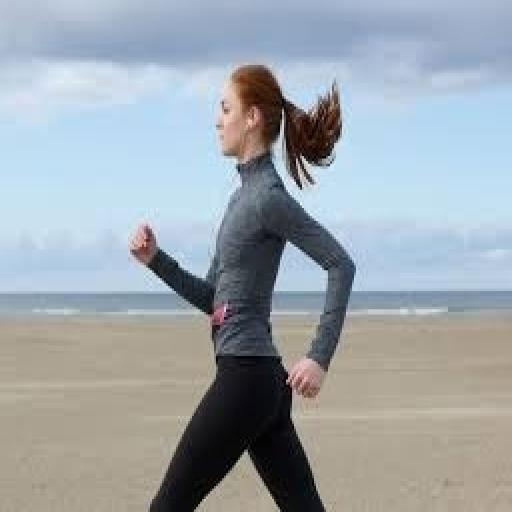running: (120, 60, 366, 509)
